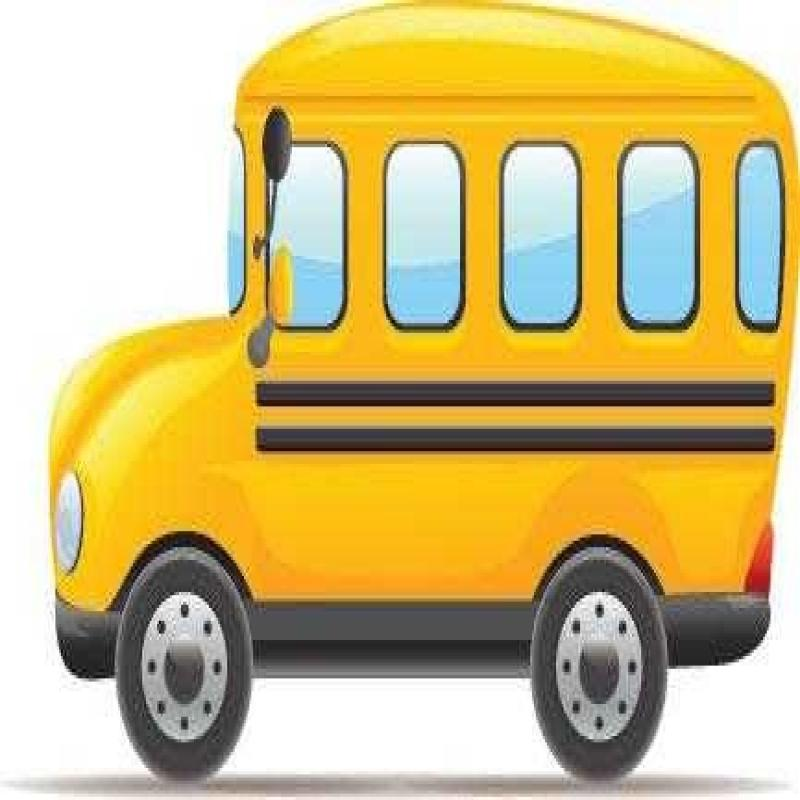bus: (50, 36, 784, 777)
